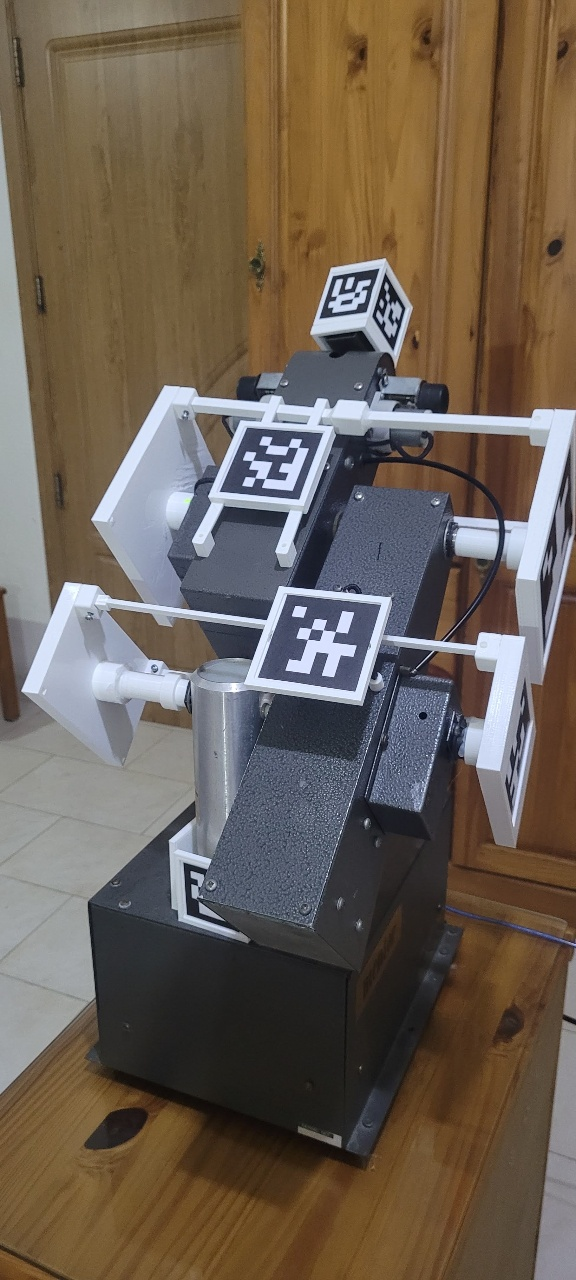Robot: (19, 254, 576, 974)
